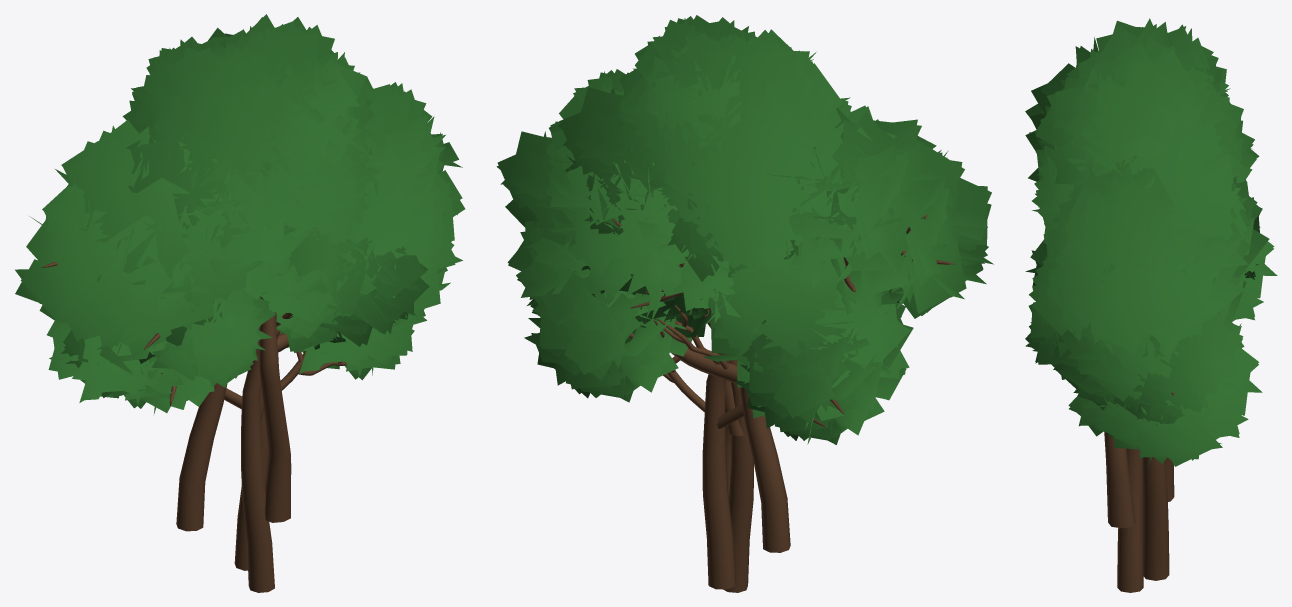
File: trees.glb
The picture shows the model from 3 angles, left to right: view 1: azimuth 30°, elevation 25°; view 2: azimuth 150°, elevation 25°; view 3: azimuth 270°, elevation 25°; orthographic projection. The views are drawn at different scales.
Visible parts, largest first — view 1: Tree_4, Tree_3, Tree_5, Tree_2, Tree_1; view 2: Tree_4, Tree_2, Tree_5, Tree_3, Tree_1; view 3: Tree_3, Tree_4, Tree_2, Tree_5, Tree_1.
Boxes of the visible parts, x1,y1,x2,y2 form: Tree_4: (122, 14, 429, 592); Tree_3: (15, 77, 465, 522); Tree_5: (39, 120, 375, 531); Tree_2: (61, 26, 426, 570); Tree_1: (151, 264, 349, 420); Tree_4: (558, 15, 897, 592); Tree_2: (524, 26, 910, 589); Tree_5: (507, 107, 964, 552); Tree_3: (496, 69, 993, 499); Tree_1: (640, 254, 743, 436); Tree_3: (1025, 104, 1216, 528); Tree_4: (1025, 18, 1262, 592); Tree_2: (1032, 52, 1269, 580); Tree_5: (1028, 37, 1277, 501); Tree_1: (1025, 239, 1047, 285).
Bounding box in the file's own units: 5.67 × 6.87 × 2.88.
